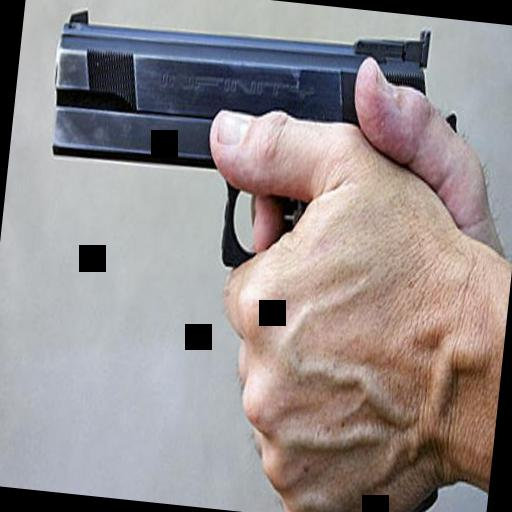Handgun: (34, 0, 476, 286)
